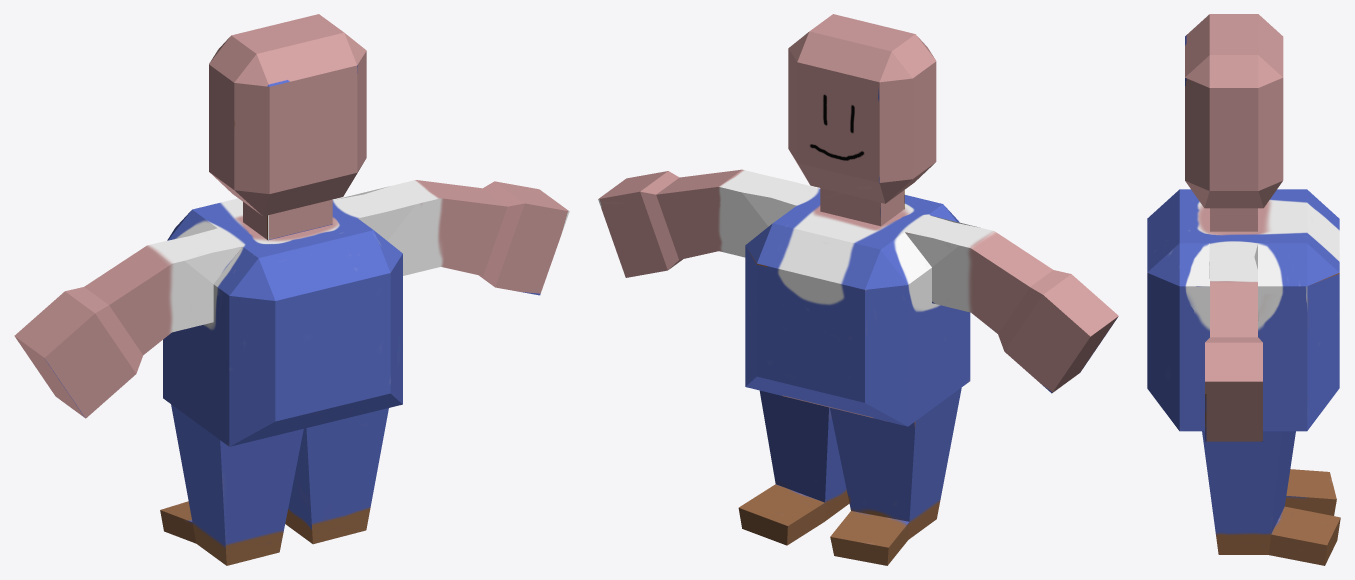
The model's file is persona.fbx.
The picture shows the model from 3 angles, left to right: view 1: azimuth 30°, elevation 25°; view 2: azimuth 150°, elevation 25°; view 3: azimuth 270°, elevation 25°; orthographic projection. The views are drawn at different scales.
Visible parts, largest first — view 1: Cube.001; view 2: Cube.001; view 3: Cube.001.
Boxes of the visible parts, x1=… form: Cube.001: x1=14, y1=14, x2=569, y2=565; Cube.001: x1=598, y1=14, x2=1118, y2=565; Cube.001: x1=1147, y1=14, x2=1340, y2=565.
Bounding box in the file's own units: 109 × 102 × 36.15.
1 material, 1 textured.
